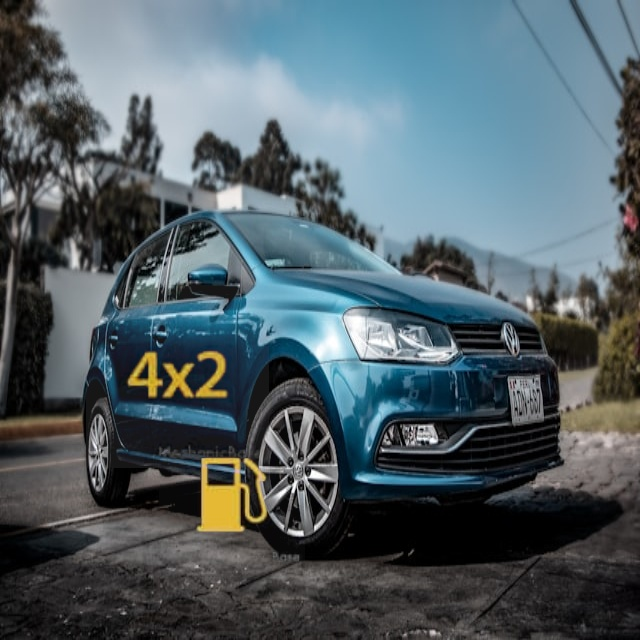symbol: (86, 285, 269, 468), (159, 423, 305, 569)
